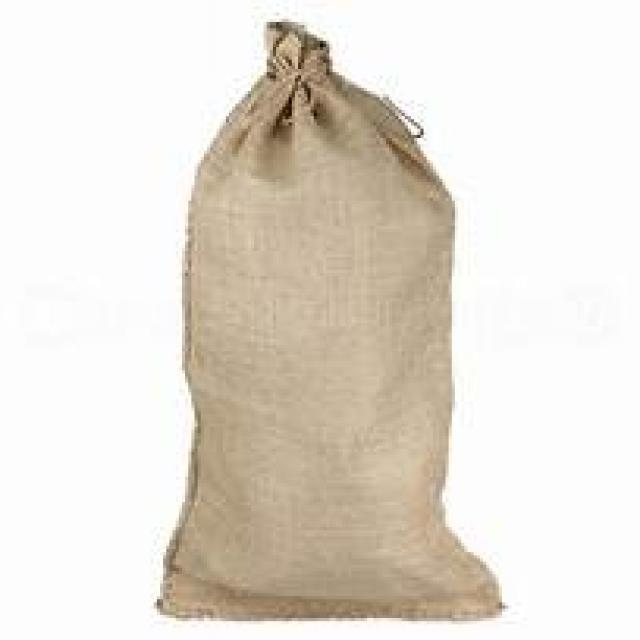gunny_bag: (146, 20, 510, 627)
